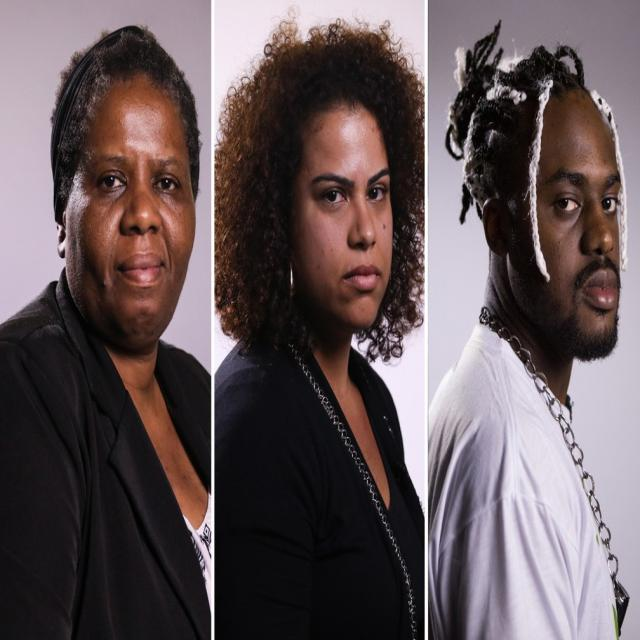sem_oculos: (59, 123, 200, 216), (476, 166, 628, 236), (278, 155, 413, 216)
